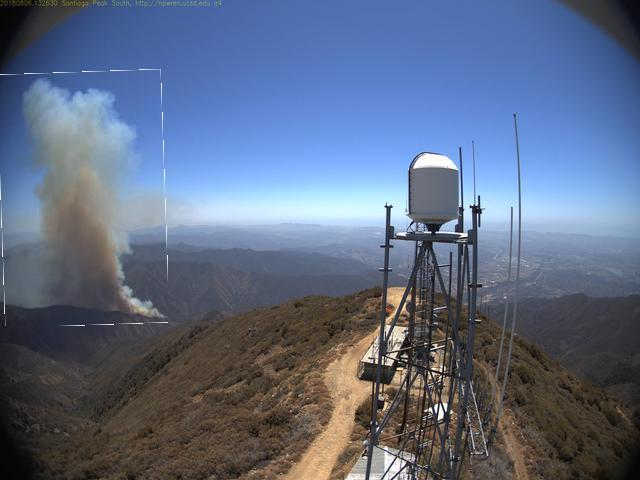smoke: (1, 71, 169, 328)
